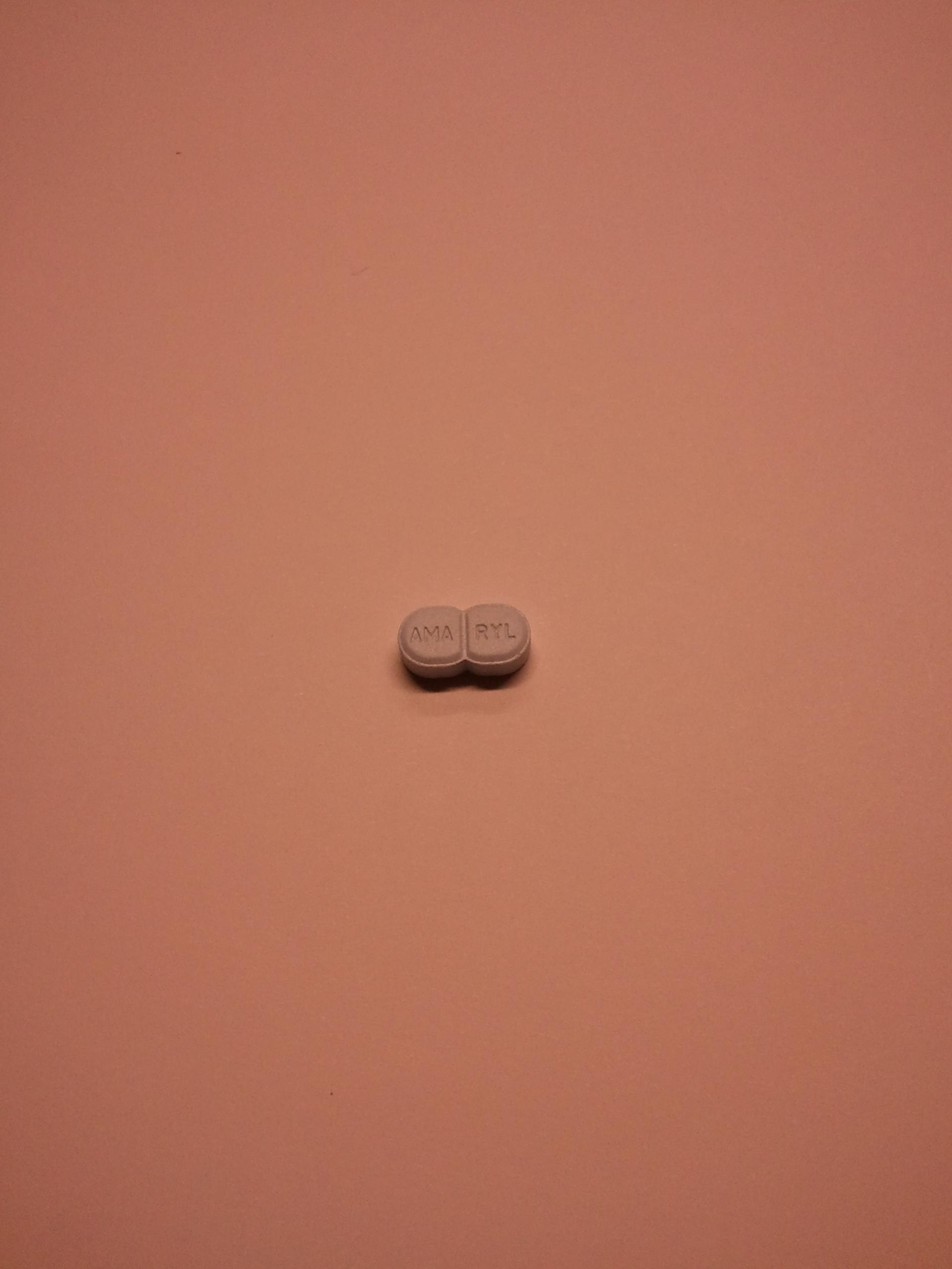Pill: (384, 577, 542, 706)
